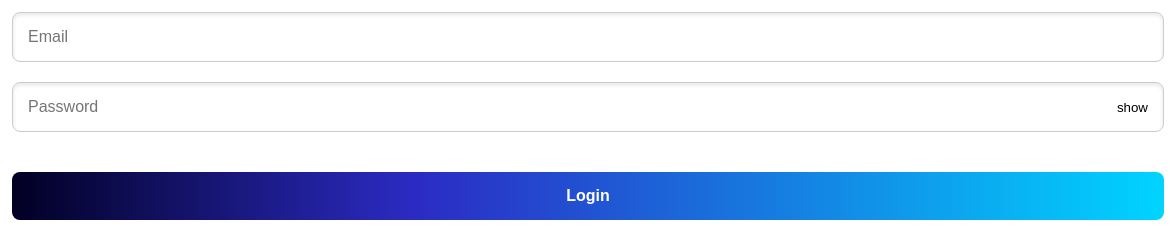
it: LoginForm › toggles password visibility
Click the button "show": (1132, 107) [1111,98,1154,116]
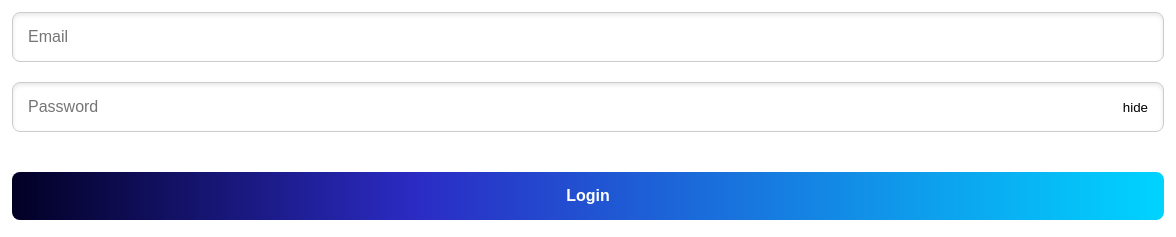
Result: the button "show" reads "hide" at [1117,98,1154,116]
